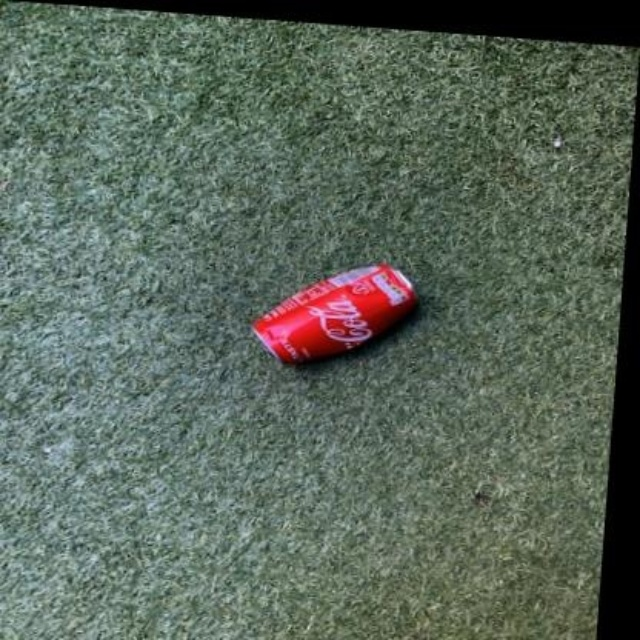trash: (252, 263, 415, 362)
